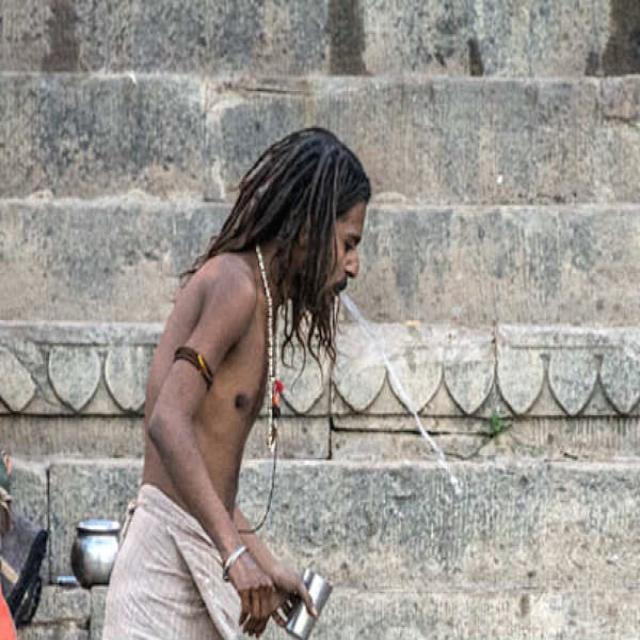Spitting: (217, 124, 400, 427)
